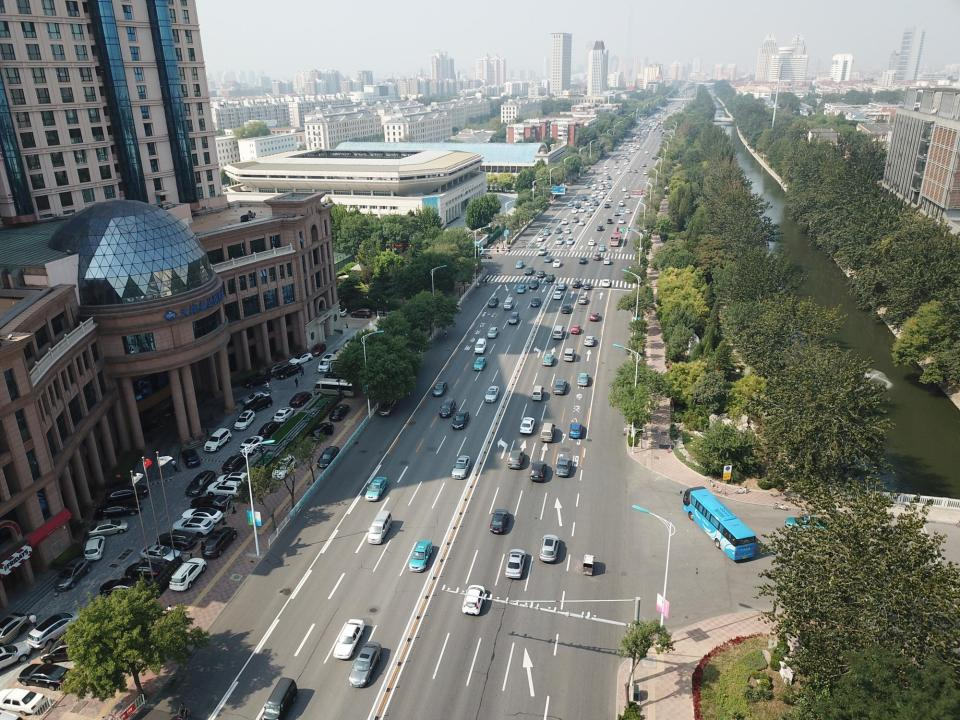bus: (680, 484, 756, 562), (313, 378, 357, 397), (610, 229, 622, 247)
car: (26, 611, 87, 649), (347, 640, 382, 689), (18, 662, 74, 692), (261, 677, 298, 720), (168, 557, 210, 593), (332, 618, 366, 660), (0, 686, 47, 716), (54, 556, 90, 594), (39, 638, 92, 663), (200, 526, 239, 559), (0, 610, 31, 645), (99, 578, 151, 598), (124, 560, 169, 582), (156, 530, 200, 552), (0, 642, 32, 672), (184, 468, 218, 496), (366, 509, 393, 544), (407, 538, 433, 573), (139, 544, 184, 564), (182, 505, 224, 525), (171, 518, 215, 537), (94, 501, 143, 518), (191, 493, 232, 513), (270, 453, 298, 482), (783, 514, 828, 532), (86, 518, 130, 536), (462, 584, 486, 617), (202, 427, 232, 452), (206, 481, 246, 498), (505, 547, 525, 580), (364, 476, 388, 503), (216, 471, 253, 488), (538, 534, 560, 562), (102, 485, 149, 498), (84, 535, 106, 562), (315, 445, 340, 468), (238, 436, 266, 455), (377, 392, 397, 418), (489, 508, 509, 534), (309, 422, 336, 441), (451, 454, 470, 481), (233, 410, 256, 432), (221, 454, 248, 472), (243, 396, 273, 412), (276, 363, 301, 380), (242, 374, 272, 388), (289, 390, 312, 408), (180, 448, 200, 468), (317, 353, 336, 373), (530, 460, 548, 481), (452, 410, 470, 431), (328, 404, 350, 421), (257, 421, 280, 437), (273, 406, 295, 422), (288, 352, 313, 366), (507, 450, 525, 469), (242, 392, 270, 404), (555, 456, 571, 477), (439, 398, 456, 417), (540, 422, 555, 443), (265, 362, 289, 375), (519, 417, 535, 434), (484, 386, 500, 403), (350, 306, 372, 318), (432, 380, 448, 396), (472, 356, 487, 372), (569, 422, 583, 439), (310, 342, 326, 356), (531, 386, 544, 401), (474, 338, 486, 354), (554, 379, 566, 395), (577, 373, 589, 388), (563, 348, 575, 362), (487, 295, 499, 308), (552, 326, 564, 339), (503, 297, 515, 309), (542, 354, 554, 366), (487, 326, 498, 338), (509, 312, 520, 324), (530, 296, 540, 308), (571, 323, 581, 334), (578, 294, 588, 305), (553, 289, 563, 300), (562, 303, 572, 313), (590, 312, 600, 322), (584, 336, 594, 346), (529, 278, 539, 288), (539, 246, 548, 256), (338, 307, 346, 318), (516, 260, 524, 270), (517, 284, 525, 293), (524, 266, 533, 274), (537, 270, 546, 278), (546, 273, 555, 281), (573, 280, 582, 288), (602, 279, 611, 287), (480, 253, 492, 259), (642, 164, 648, 175), (558, 282, 566, 290), (584, 282, 592, 290), (553, 259, 561, 267), (566, 236, 574, 244), (556, 236, 564, 244), (593, 253, 601, 261), (604, 258, 612, 265), (580, 256, 588, 263), (545, 255, 552, 263), (537, 234, 545, 241), (564, 228, 571, 235), (598, 244, 604, 252), (556, 227, 562, 234), (571, 208, 578, 214), (598, 192, 605, 198), (544, 229, 550, 235), (588, 240, 594, 246), (597, 225, 603, 231), (580, 219, 586, 225), (575, 203, 581, 209), (579, 207, 585, 213), (585, 212, 591, 218), (590, 206, 596, 212), (585, 201, 591, 207), (618, 218, 624, 224), (618, 209, 624, 215), (624, 192, 630, 198), (606, 197, 612, 203), (604, 202, 610, 208), (594, 201, 600, 207), (595, 188, 601, 194), (607, 184, 613, 190), (598, 185, 604, 191), (597, 177, 603, 183), (602, 170, 608, 176), (614, 163, 620, 169), (623, 161, 629, 167), (635, 131, 640, 138), (573, 217, 579, 222), (561, 219, 567, 224), (567, 202, 573, 207), (582, 196, 588, 201), (614, 211, 620, 216), (625, 209, 630, 215), (619, 200, 624, 206), (590, 197, 596, 202), (591, 192, 597, 197), (591, 184, 597, 189), (603, 178, 608, 184), (603, 165, 609, 170), (616, 169, 622, 174), (625, 167, 631, 172), (632, 169, 638, 174), (625, 157, 630, 163), (607, 219, 612, 224), (622, 187, 627, 192), (632, 136, 636, 142), (621, 153, 625, 158), (636, 145, 640, 150), (614, 160, 620, 163), (644, 150, 648, 154), (628, 143, 632, 147), (633, 143, 636, 148), (584, 185, 588, 188), (627, 150, 630, 154), (642, 138, 645, 141), (644, 134, 647, 137), (643, 167, 647, 169), (630, 150, 634, 152), (630, 148, 633, 150), (624, 148, 627, 150), (637, 140, 640, 142), (652, 156, 654, 159)
